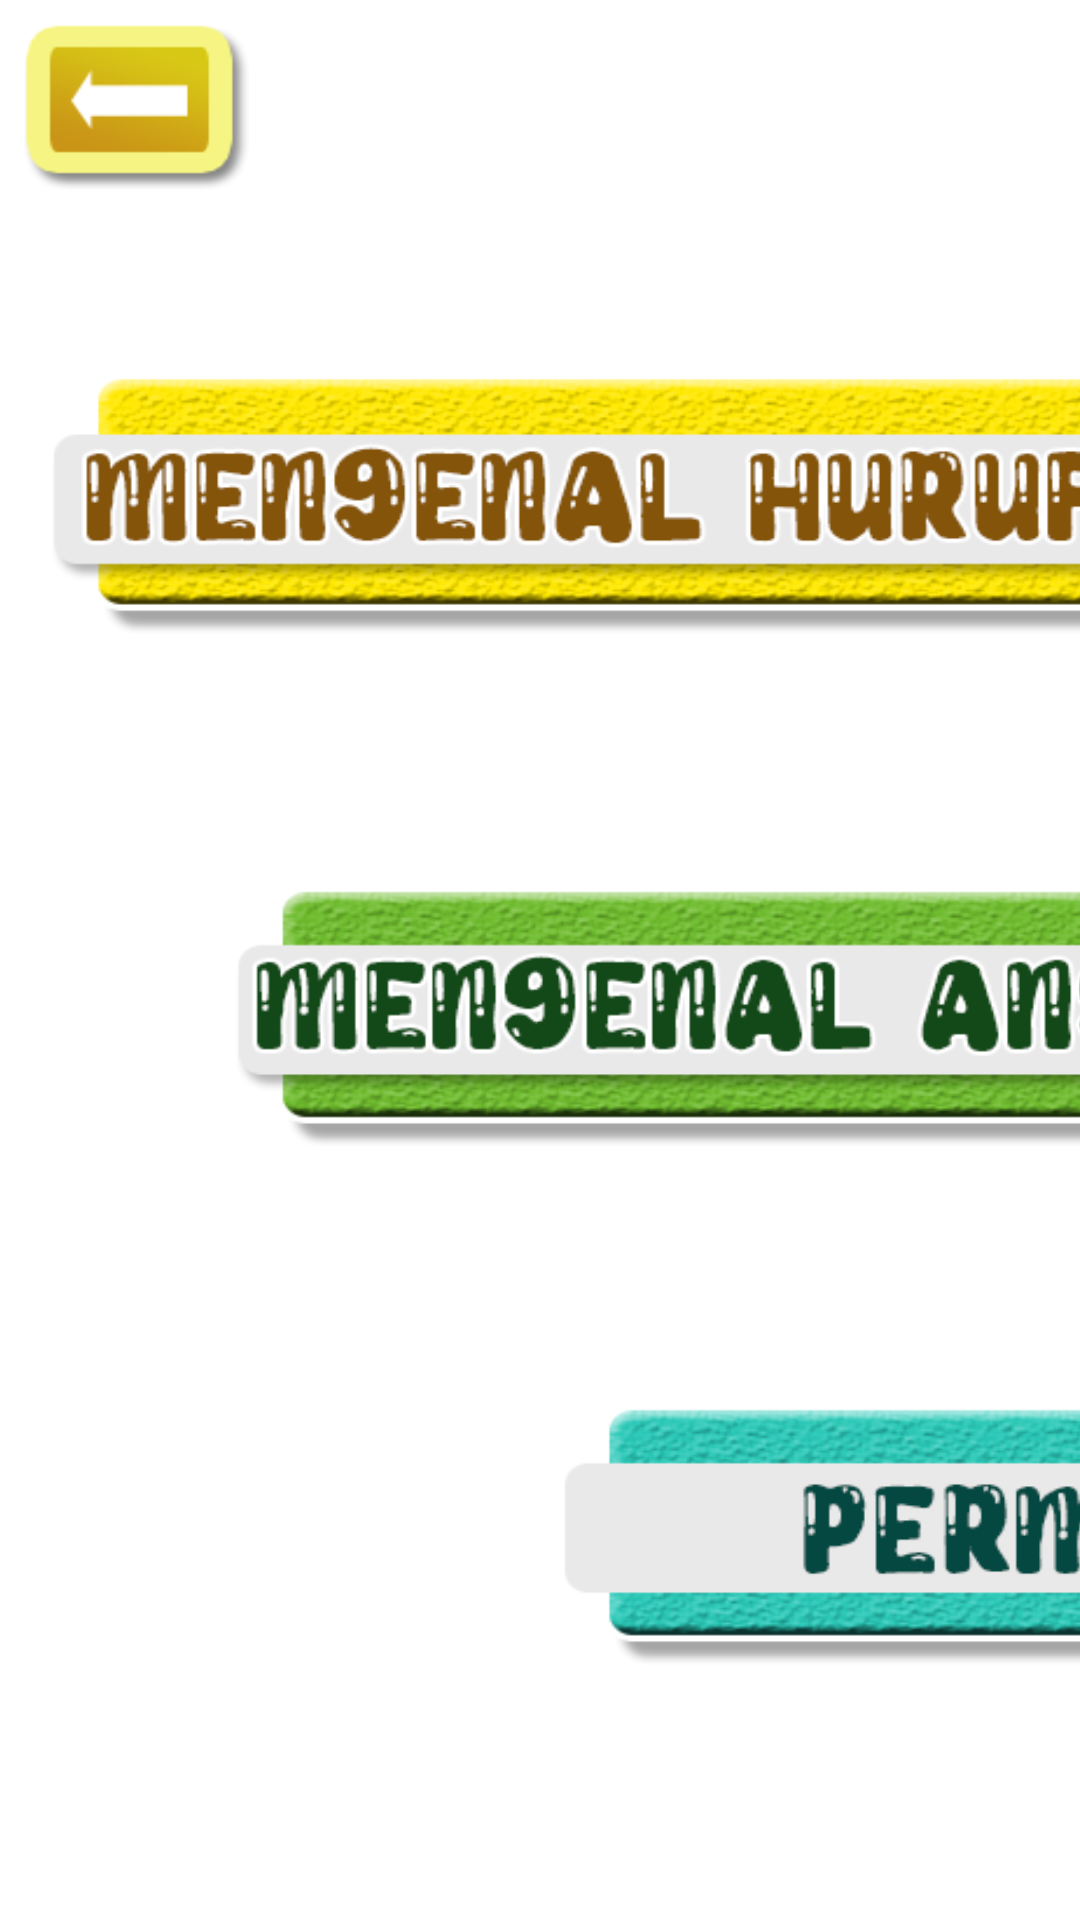

Locate icon controls on the screen. Image size 1080px×1920px, boxes as BBox(x1, y1, x2, y2).
kembali: BBox(26, 25, 244, 185)
